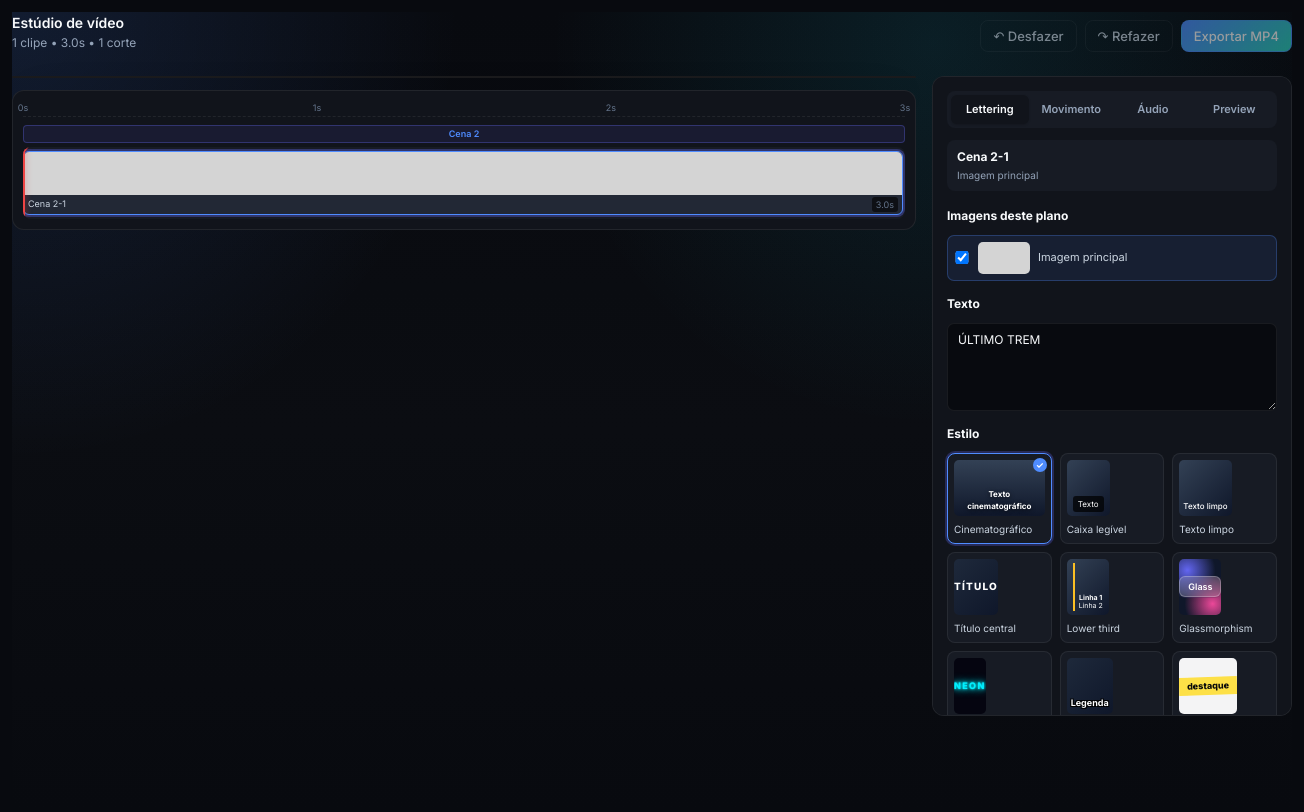
VideoStudio › desabilita a transição de entrada no primeiro plano
Click the tab "Movimento". click: (1071, 109)
box: [1032,95,1110,124]
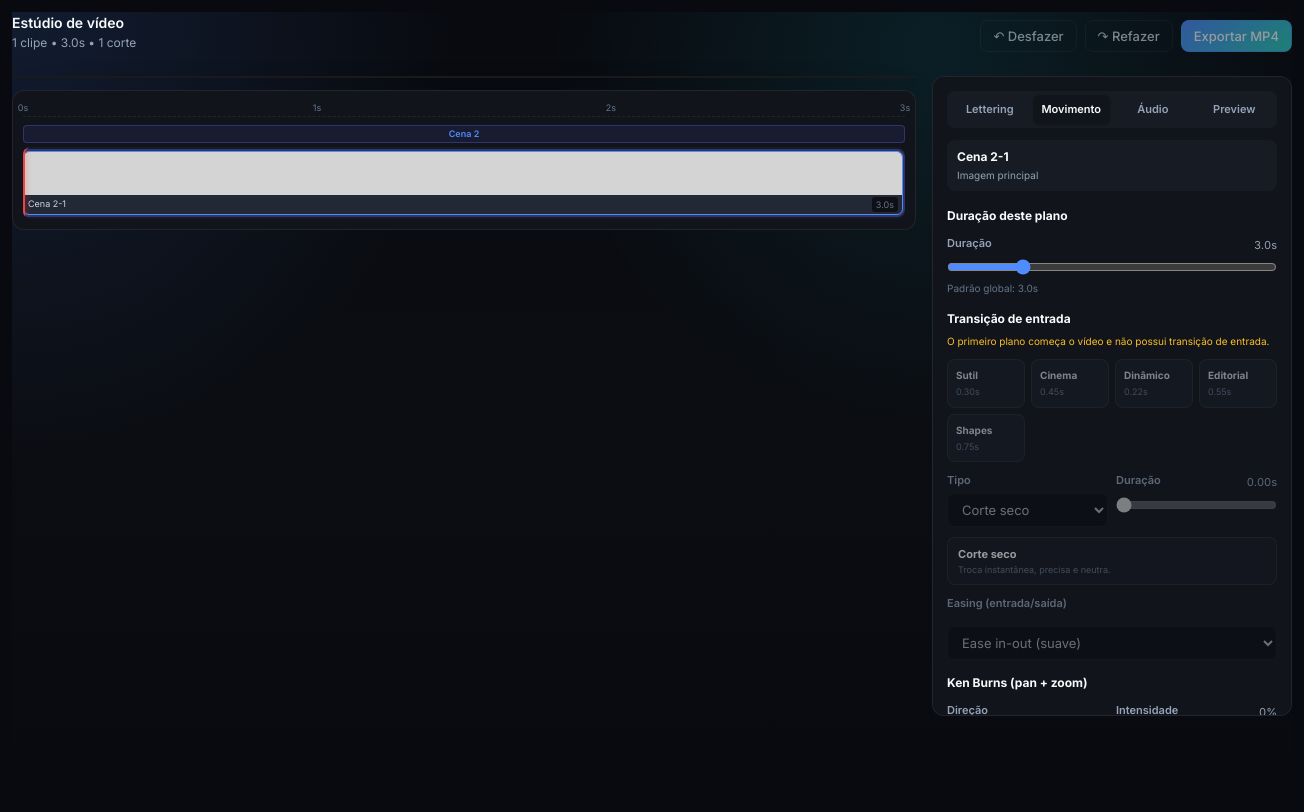
Now the text "primeiro plano começa o vídeo" is shown, box [947,335,1269,347]
Now the button "Cinema 0.45s" is disabled, box [1031,359,1109,408]
Now the dropdown labelled "Tipo" is disabled, box [947,492,1108,526]
